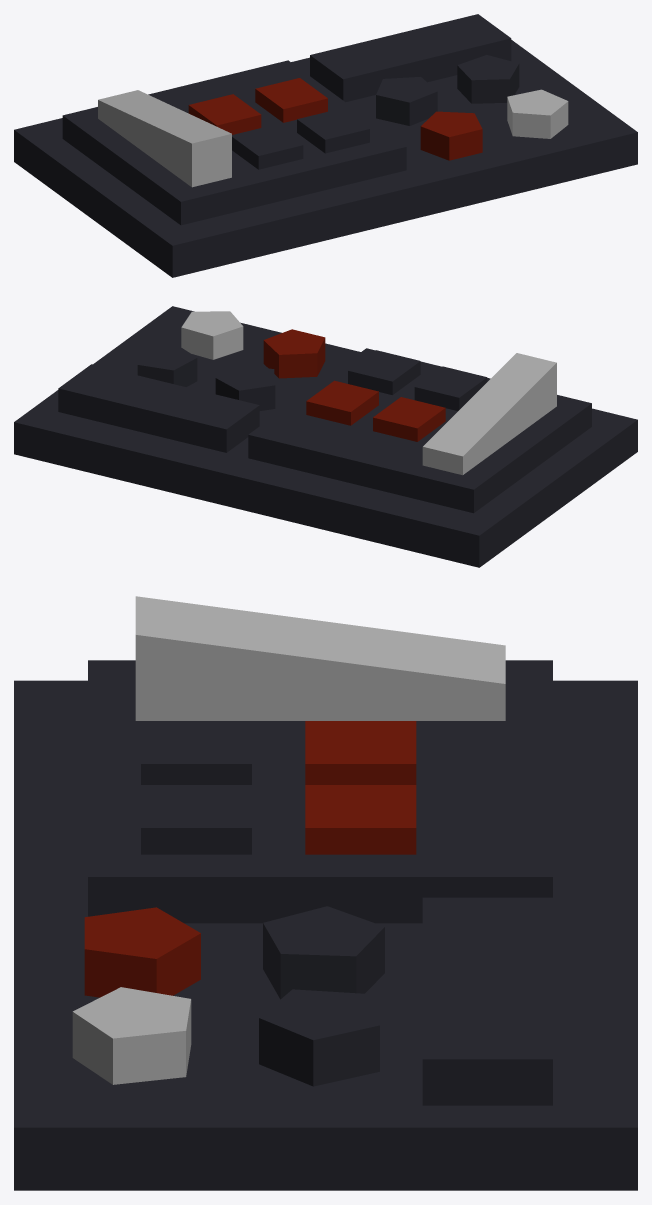
File: LPSciFiCharacter_ControlPanelA.fbx
3 views of the same model, one above another, from view 1: azimuth 30°, elevation 25°; view 2: azimuth 150°, elevation 25°; view 3: azimuth 270°, elevation 25° (orthographic). The views are drawn at different scales.
Visible parts, largest first — view 1: ControlPanelA; view 2: ControlPanelA; view 3: ControlPanelA.
Boxes of the visible parts, x1,y1,x2,y2 form: ControlPanelA: (14,14,637,277); ControlPanelA: (14,306,637,567); ControlPanelA: (14,596,637,1190).
Bounding box in the file's own units: 43.85 × 8.96 × 25.87.
